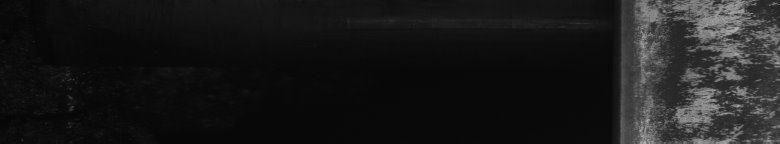kb: (635, 4, 776, 136)
